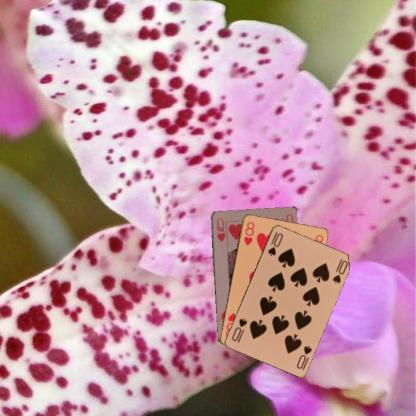10s: (265, 228, 284, 258), (294, 342, 314, 370)
8h: (241, 219, 255, 247)
Qh: (214, 216, 226, 243)
